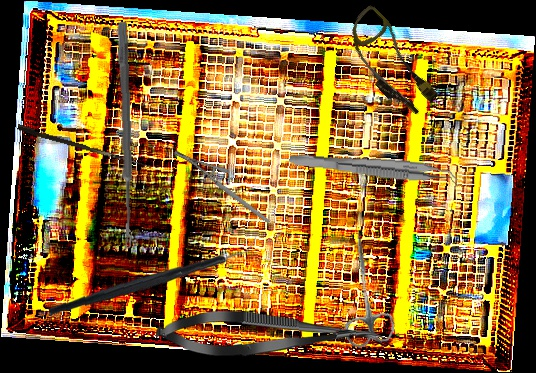Cannula: (332, 3, 449, 122)
Chopper: (48, 224, 257, 327)
Hook Surgical: (16, 124, 153, 168)
Iris Scissors: (331, 227, 397, 350)
Micro Scissor: (155, 310, 386, 359)
Needle Holder: (172, 128, 271, 246)
Surgical Spoon: (116, 21, 135, 250)
Tissue Forceps: (288, 152, 459, 187)
